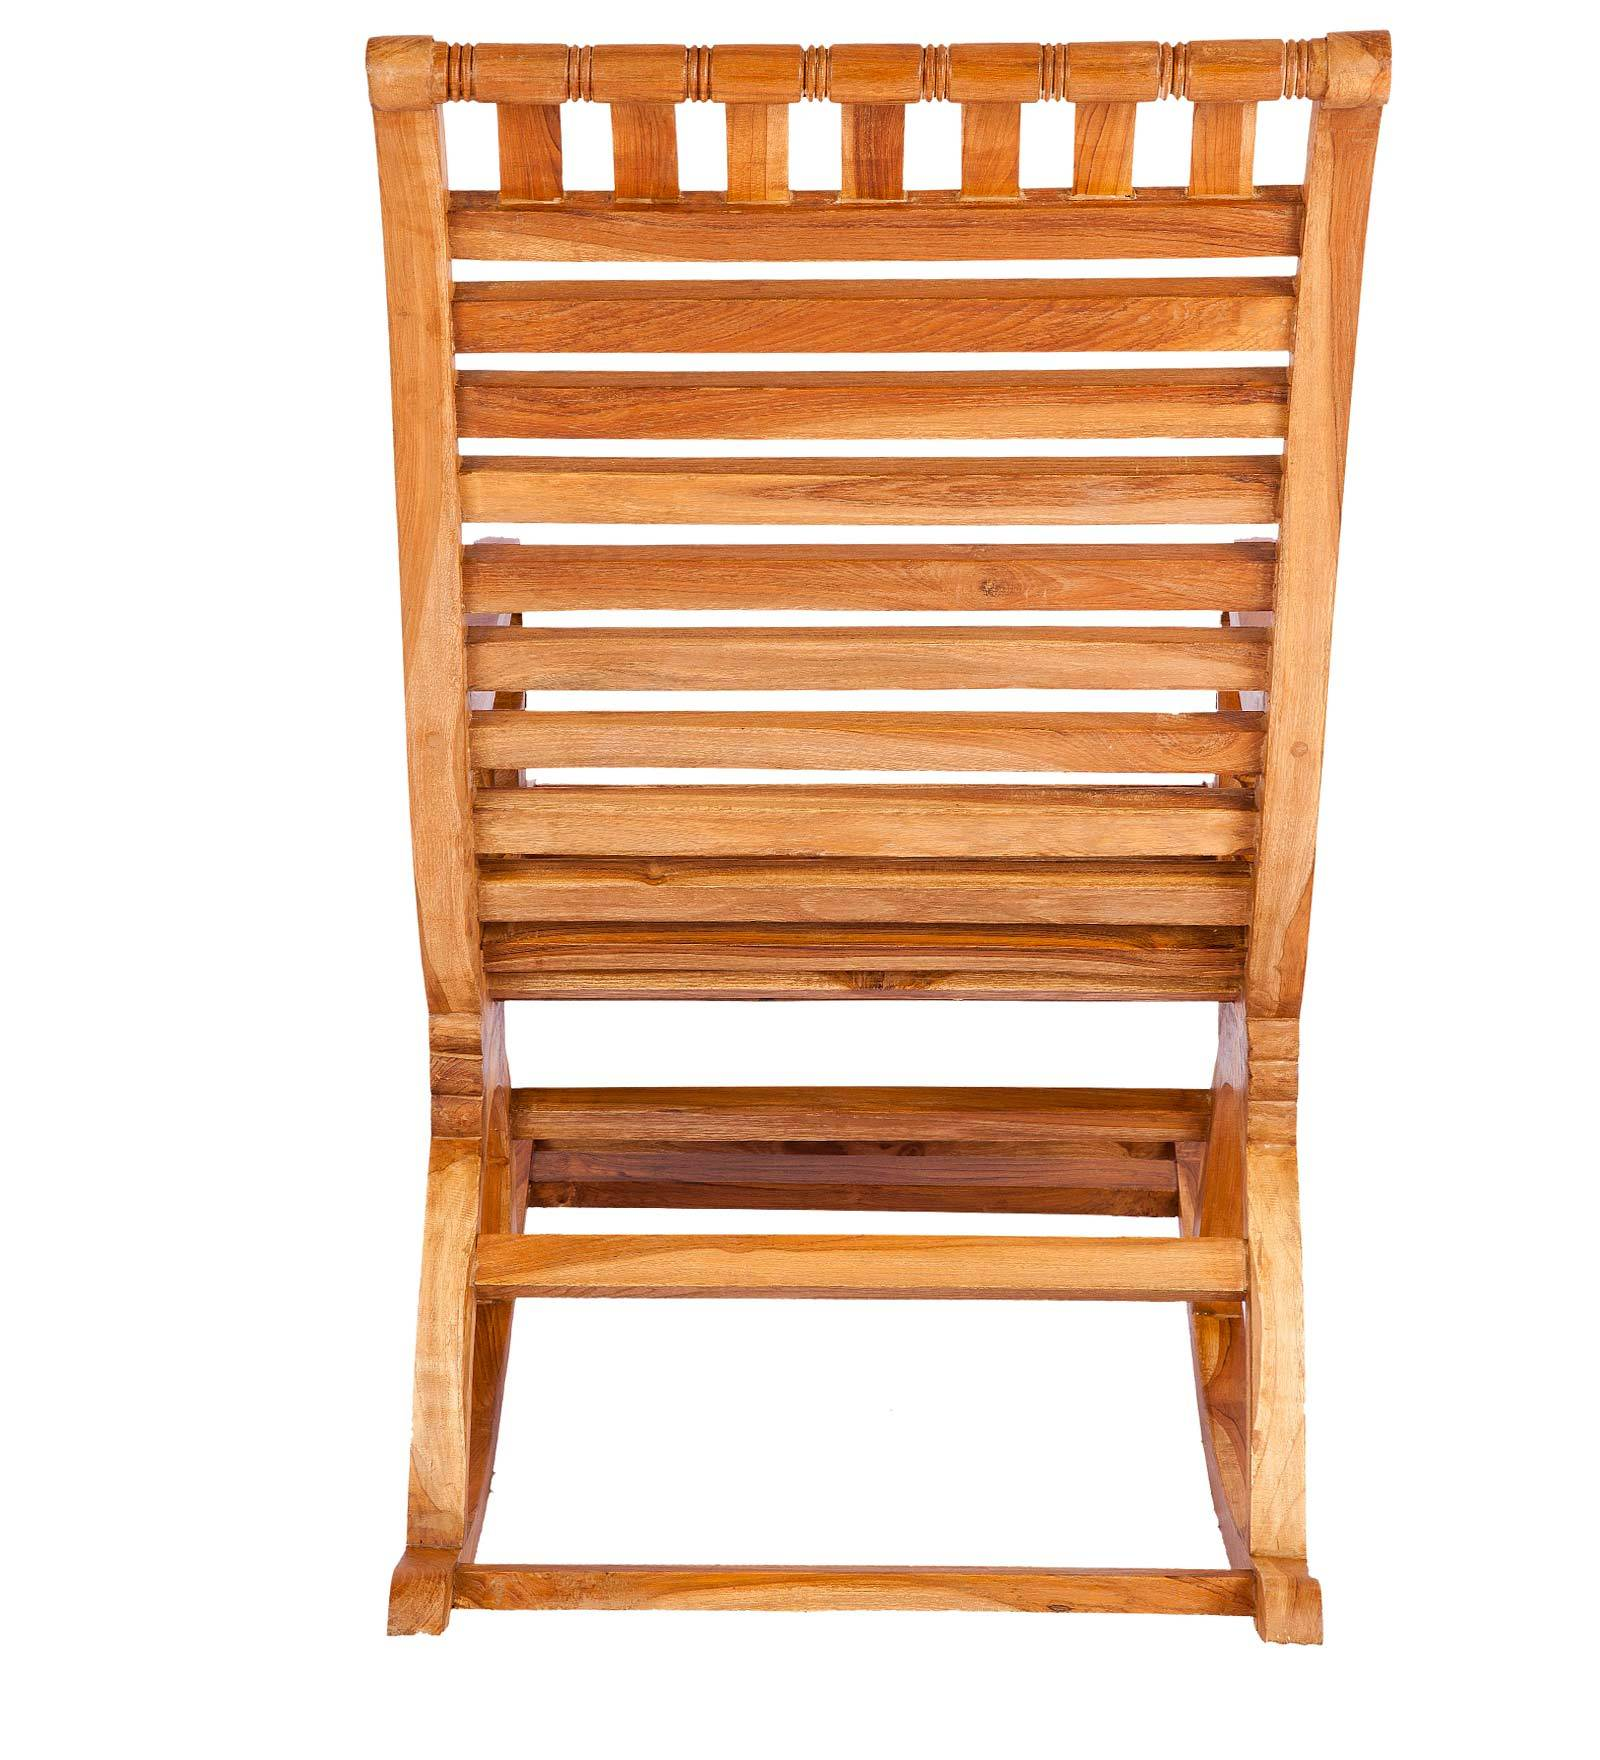Teak Wood Rocking Chair in Light Teak Finish by Karigar: (317, 12, 1464, 1677)
